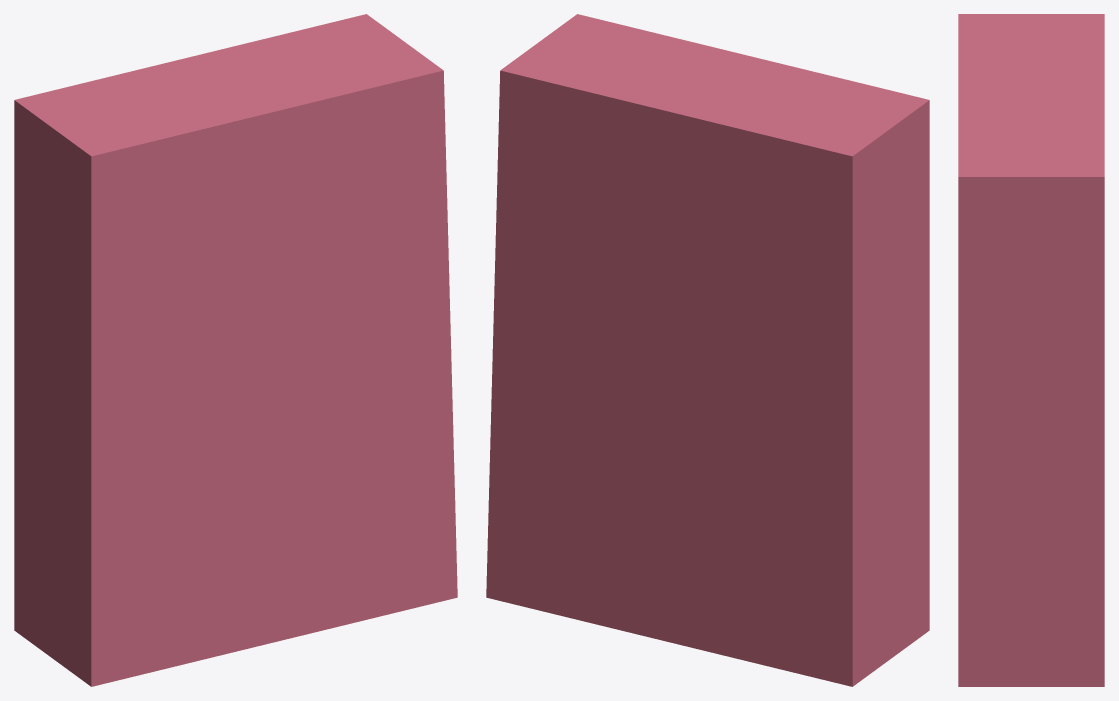
3 renders of one model, left to right at view 1: azimuth 30°, elevation 25°; view 2: azimuth 150°, elevation 25°; view 3: azimuth 270°, elevation 25°, orthographic. The views are drawn at different scales.
Parts seen in each view (by area): view 1: geometry_0; view 2: geometry_0; view 3: geometry_0.
Part boxes in pixels (x1,y1,x2,y2): geometry_0: (14,14,457,686); geometry_0: (486,14,929,686); geometry_0: (958,14,1104,686).
Size of the model in its own units: 8.22 by 11.38 by 3.
